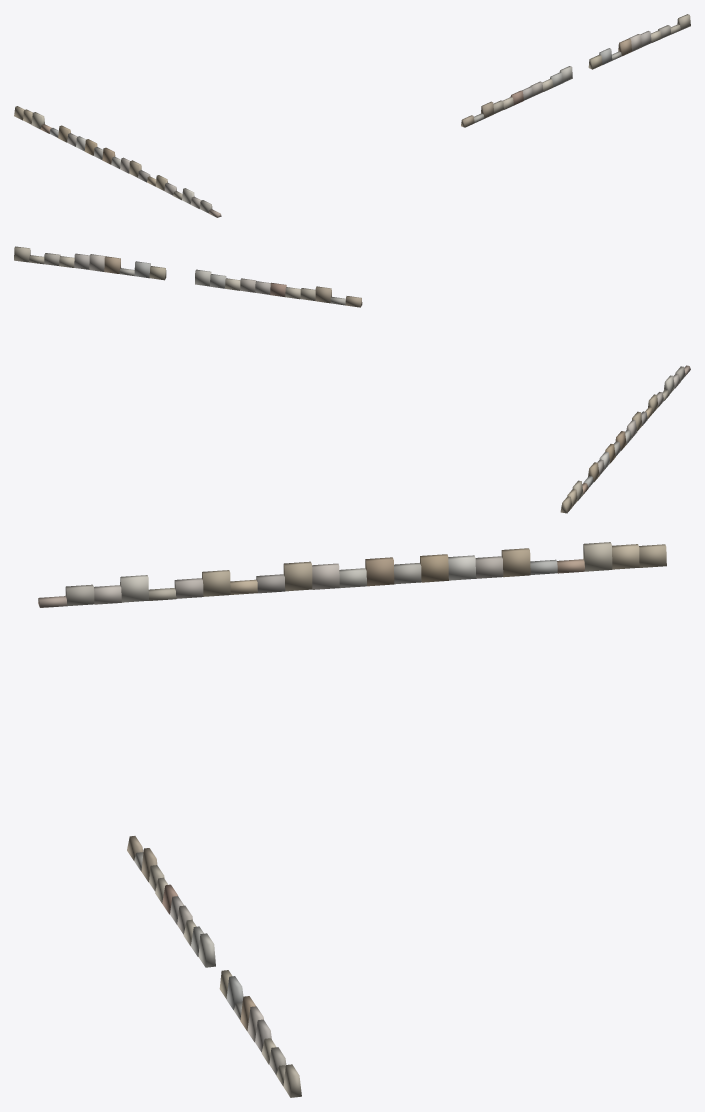
File: farm_15_24_collision.glb
3 renders of one model, top to bottom at view 1: azimuth 30°, elevation 25°; view 2: azimuth 150°, elevation 25°; view 3: azimuth 270°, elevation 25°, orthographic. The views are drawn at different scales.
Visible parts, largest first — view 1: geometry_0; view 2: geometry_0; view 3: geometry_0.
Boxes of the visible parts, x1,y1,x2,y2 form: geometry_0: (14,14,690,217); geometry_0: (14,246,690,513); geometry_0: (38,542,666,1097).
Bounding box in the file's own units: 77.08 × 3.52 × 35.97.
